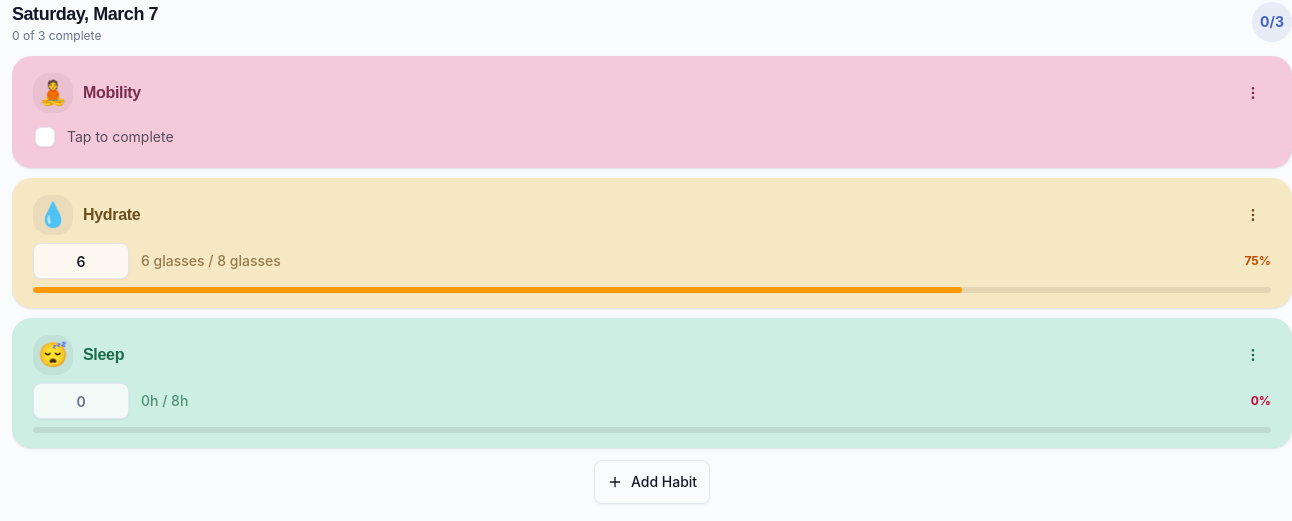
Test: DailyHabits › reflects numeric progress from draft input before blur
This screenshot has width=1292, height=521.
Replace the text in the number field named "Hydrate" with "8". click: (81, 261)
box: [33,243,129,279]
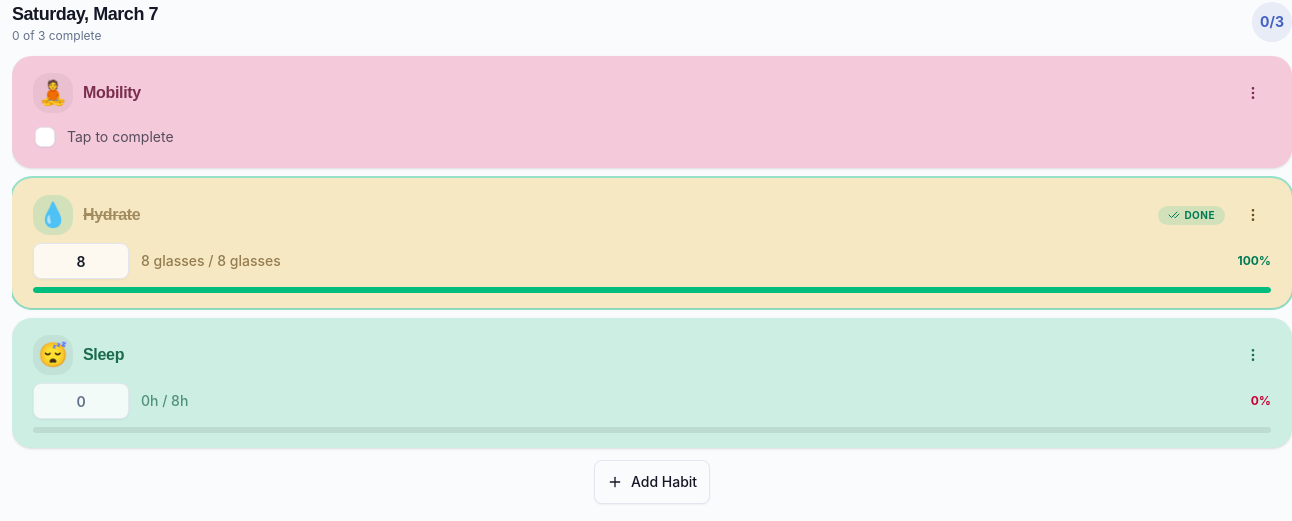
Now the text "8 glasses / 8 glasses" is shown, box [141,251,281,271]
Now the text "100%" is shown, box [1238,253,1271,269]
